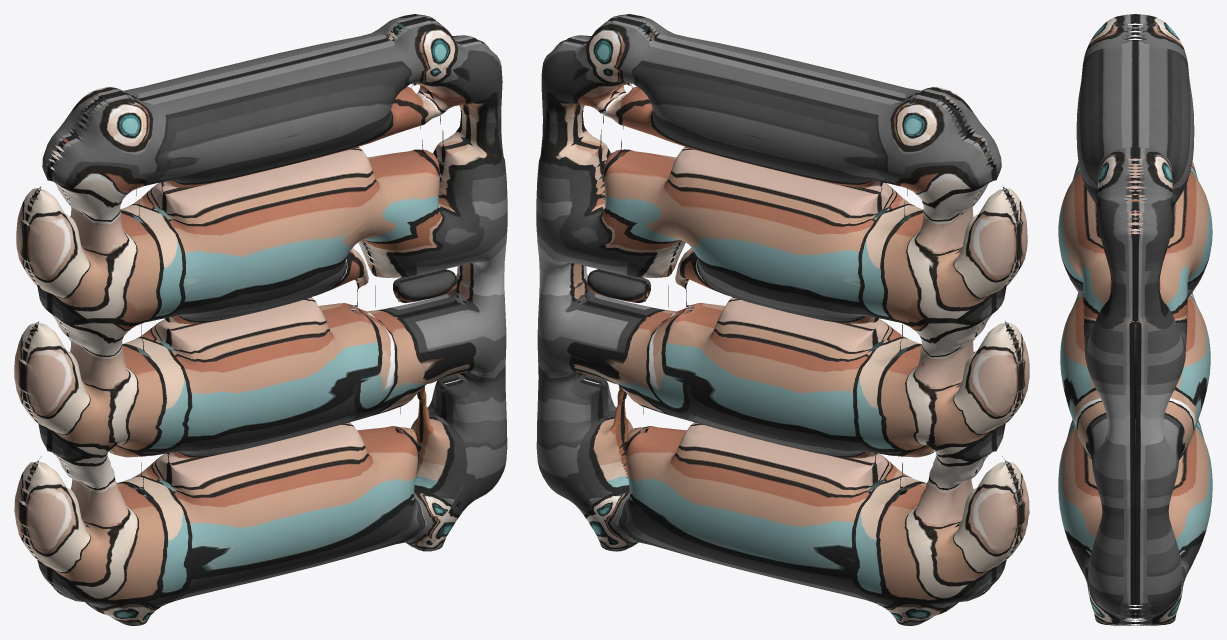
File: actuator_bank.glb
The picture shows the model from 3 angles, left to right: view 1: azimuth 30°, elevation 25°; view 2: azimuth 150°, elevation 25°; view 3: azimuth 270°, elevation 25°; orthographic projection. The views are drawn at different scales.
Parts seen in each view (by area): view 1: actuator_bank; view 2: actuator_bank; view 3: actuator_bank.
Boxes of the visible parts, left/top/right/bottom form: actuator_bank: left=14, top=14, right=507, bottom=625; actuator_bank: left=536, top=14, right=1029, bottom=625; actuator_bank: left=1058, top=14, right=1212, bottom=625.
Bounding box in the file's own units: 0.9884 × 1.02 × 0.3062.
Materials: 1 (1 with a texture image).
